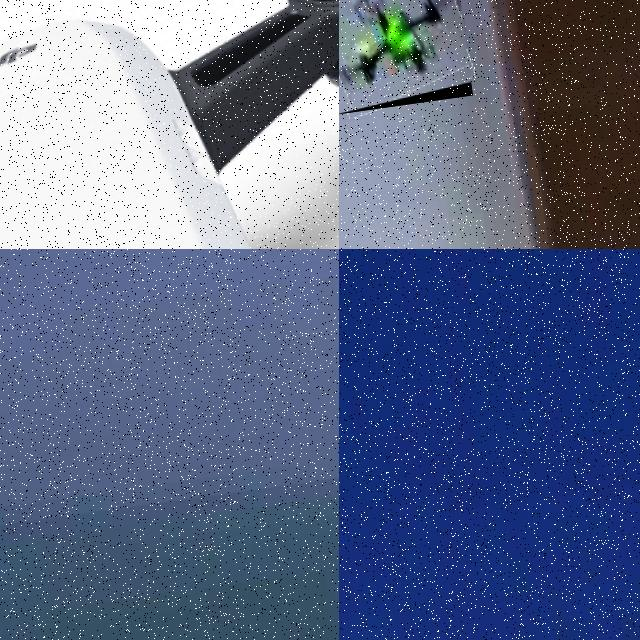drone: (0, 0, 339, 249), (339, 0, 472, 115)
